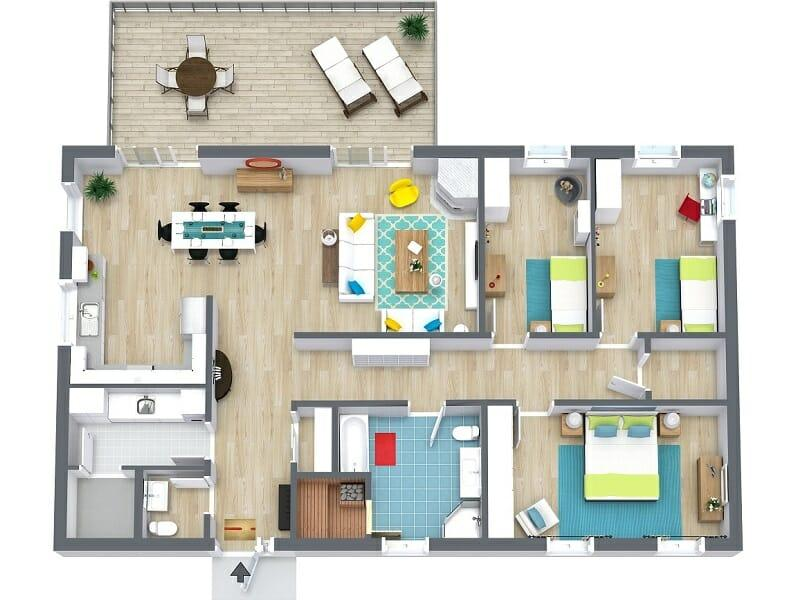room: (485, 401, 731, 544), (295, 402, 484, 544), (594, 152, 731, 333), (63, 385, 208, 543), (482, 151, 593, 334), (647, 335, 731, 402)
